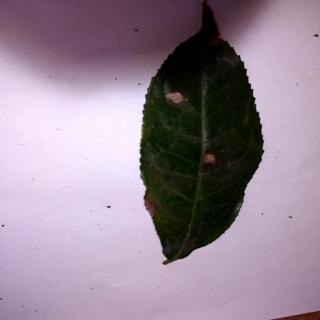Anthracnose: (140, 3, 266, 267)
